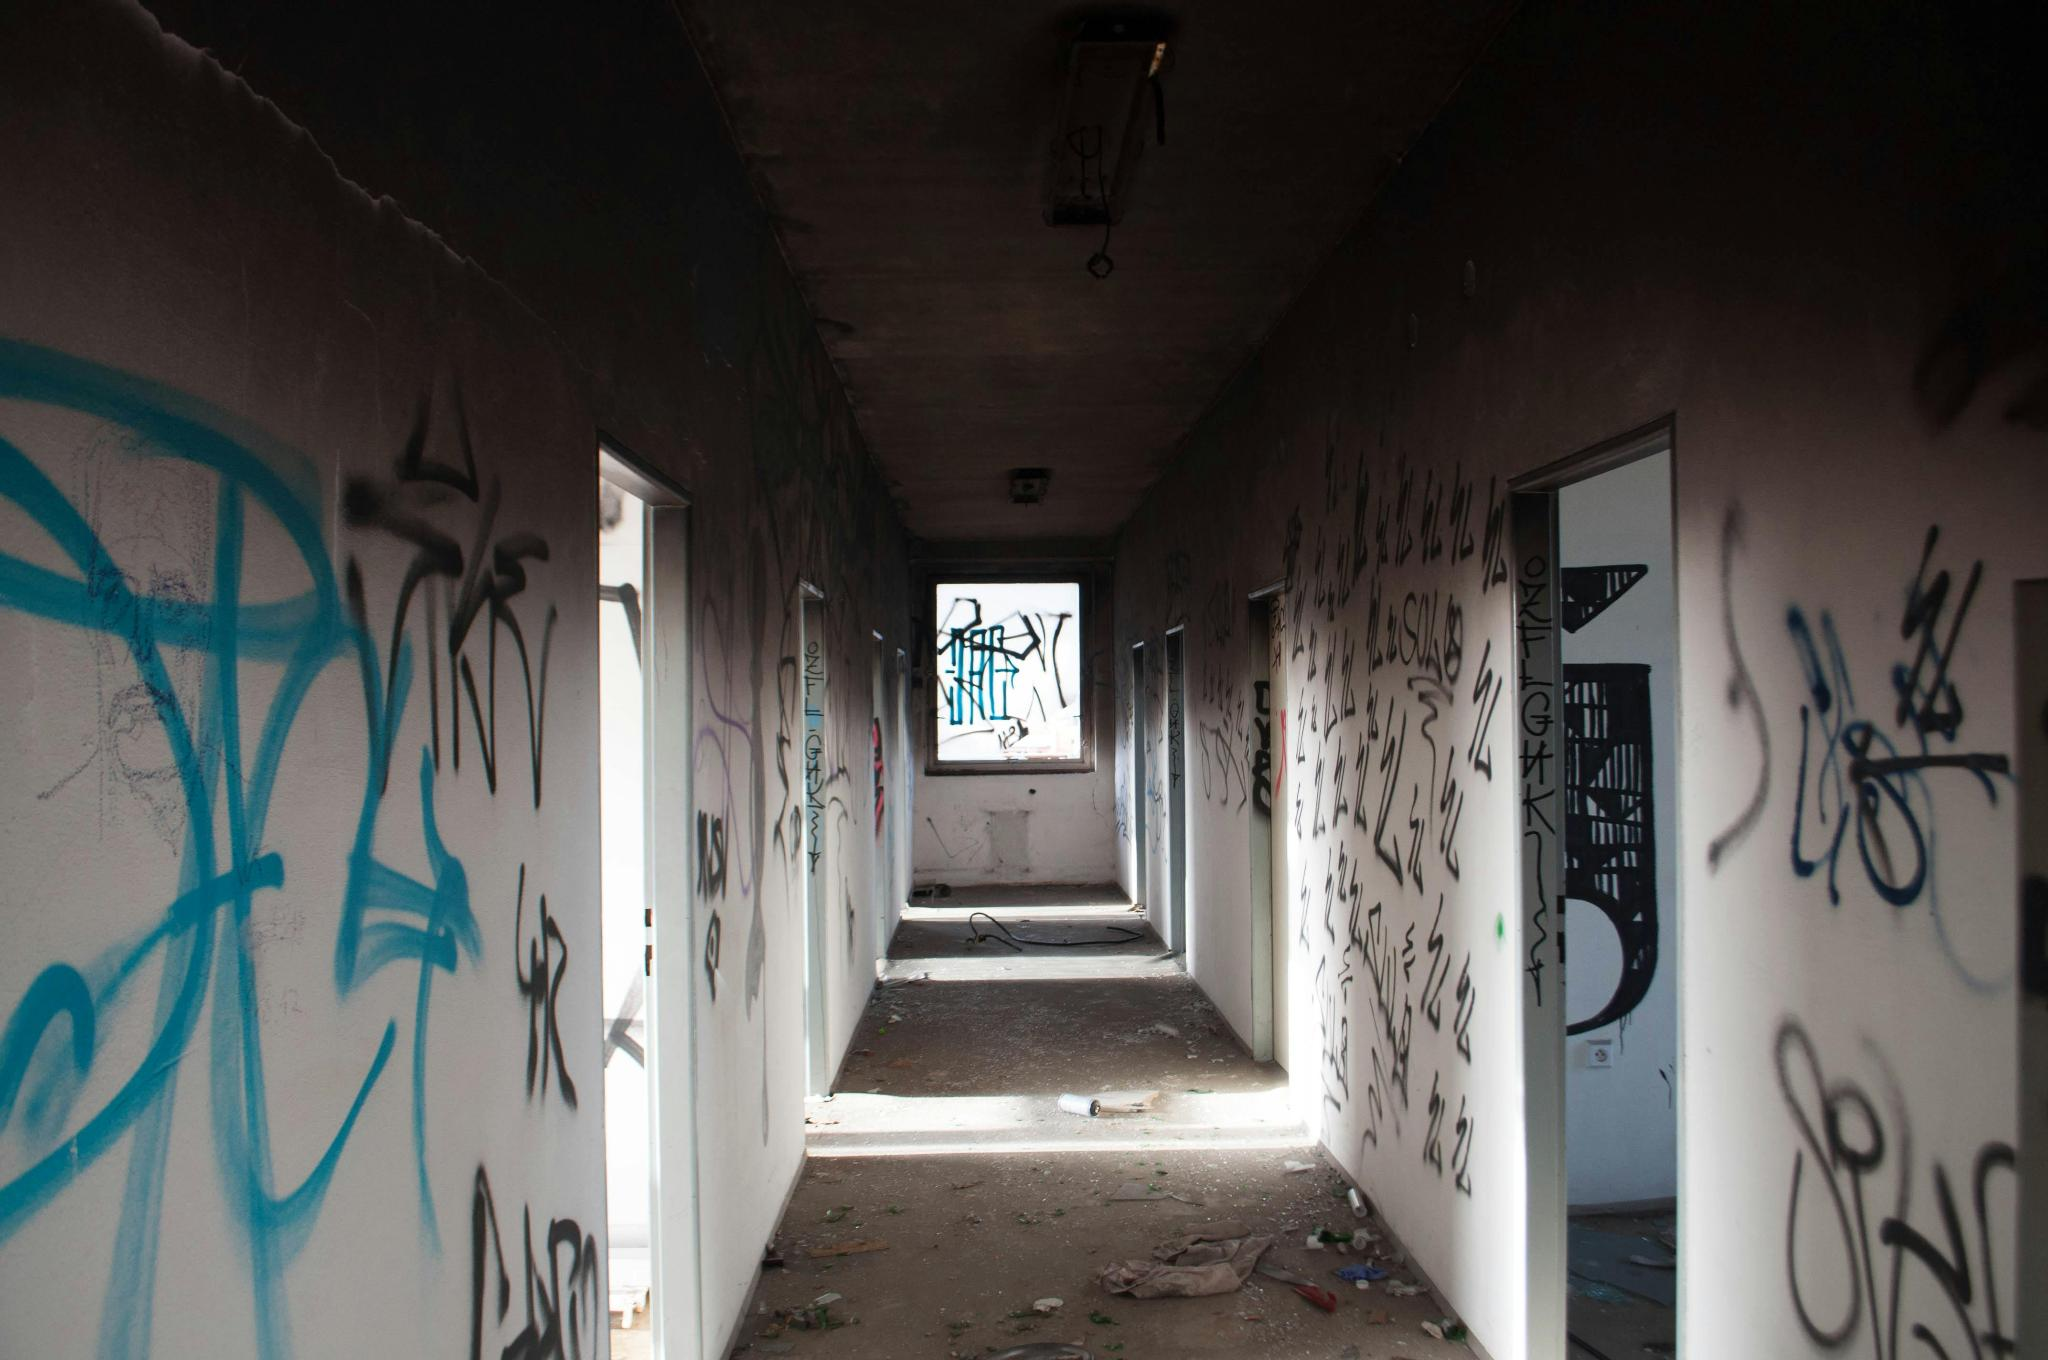graffiti: (0, 386, 593, 1360), (1288, 464, 1519, 1179), (1702, 490, 2045, 955), (1761, 1009, 2048, 1360), (690, 560, 792, 1061), (1561, 560, 1660, 1040), (936, 606, 1079, 751), (1523, 543, 1555, 1011), (1186, 603, 1247, 824), (1135, 644, 1161, 839), (803, 609, 819, 879), (614, 967, 649, 1084), (602, 566, 636, 668), (1256, 669, 1268, 839), (875, 704, 886, 845), (1658, 1061, 1678, 1111)
trash: (965, 912, 1147, 953), (743, 1290, 865, 1342), (1092, 1260, 1252, 1298), (1156, 1219, 1276, 1269), (1256, 1260, 1343, 1319), (956, 1342, 1101, 1360), (1107, 1161, 1180, 1198), (1054, 1088, 1112, 1126), (812, 1234, 884, 1263), (1308, 1223, 1356, 1261), (1350, 1223, 1390, 1257), (1424, 1316, 1467, 1346), (1033, 1295, 1068, 1327), (1138, 1020, 1183, 1044), (1385, 1280, 1431, 1302), (912, 880, 954, 902), (1343, 1266, 1382, 1287), (1346, 1187, 1368, 1219), (751, 1246, 784, 1267), (821, 1205, 859, 1217)
